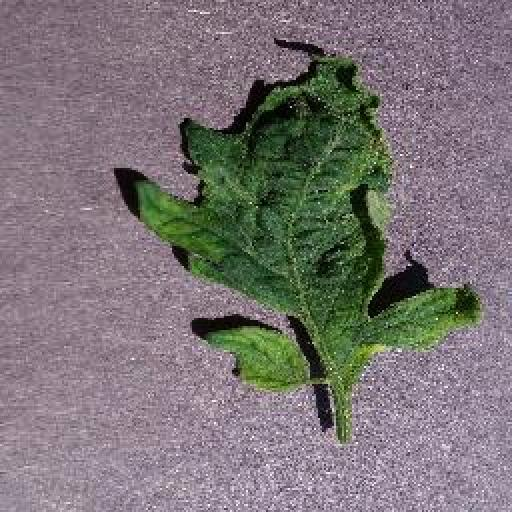disease_tomato: (130, 54, 488, 394)
